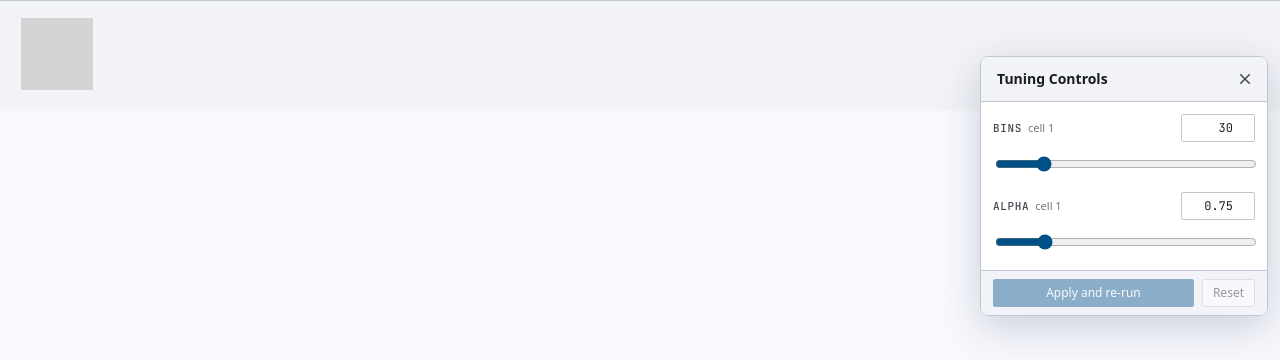
Test: the apply button › sends only the changed knobs and reports a re-run of the whole notebook
Replace the text in the number field named "BINS" with "40" at x=1218, y=128, box x1=1181 y1=114 x2=1255 y2=142
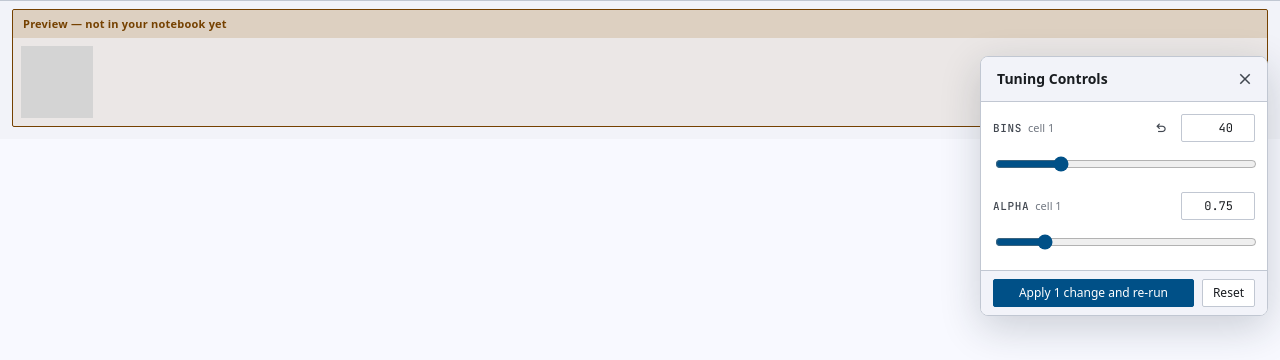
Click the button "Apply 1 change and re-run" at x=1093, y=293, box x1=993 y1=279 x2=1194 y2=307
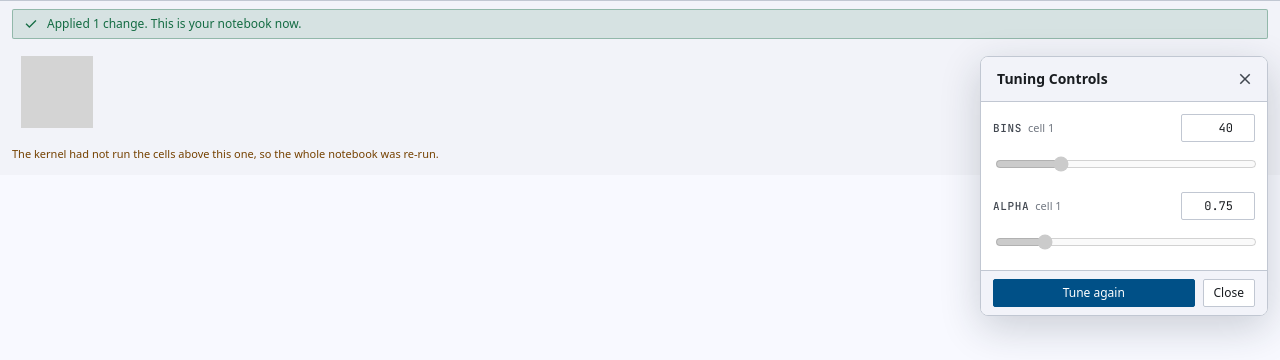
Check: the text "the whole notebook was re-run" is shown, box x1=12 y1=146 x2=439 y2=161
